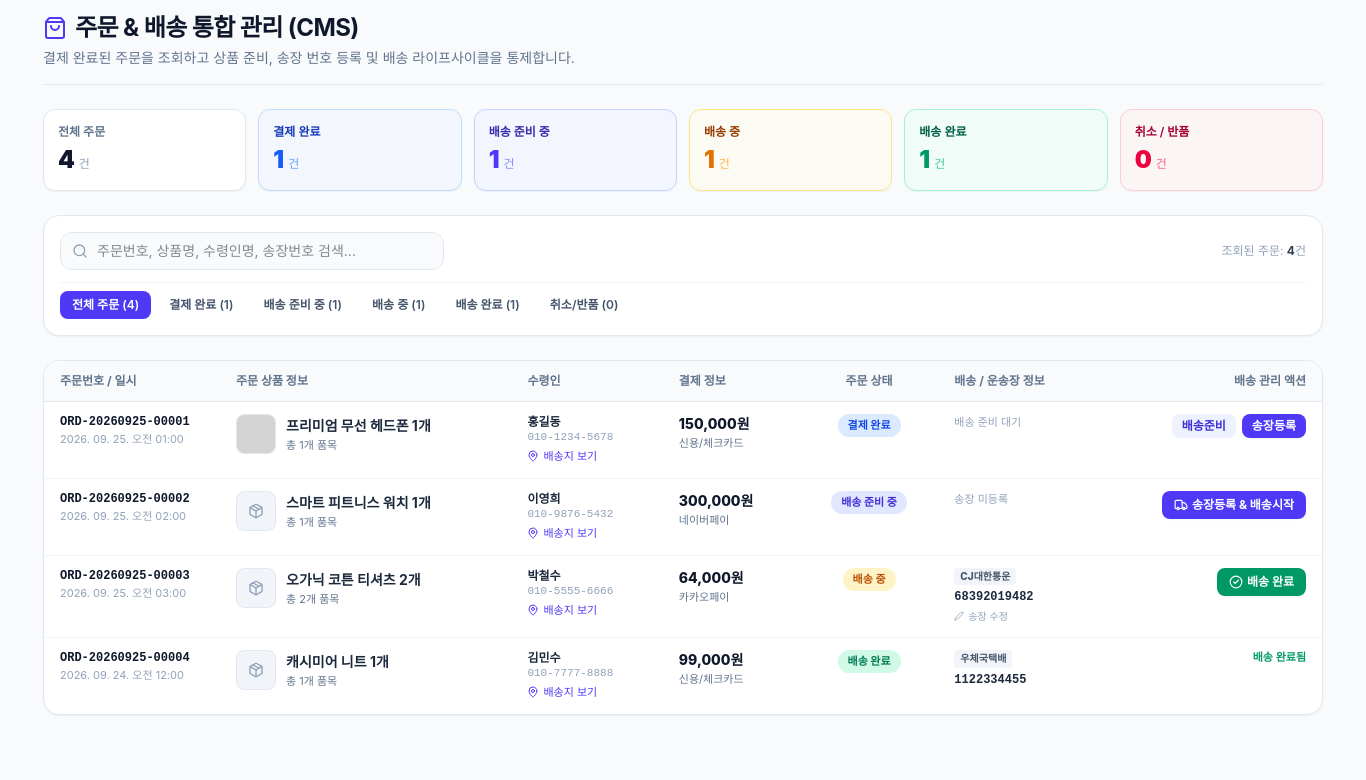
it: AdminOrderListViewer Component › 검색어로 주문번호 또는 수령인 검색 시 일치하는 주문만 필터링된다
Type "이영희" into the field with placeholder "주문번호, 상품명, 수령인명, 송장번호 검색..." at (252, 251), box [60,232,444,270]
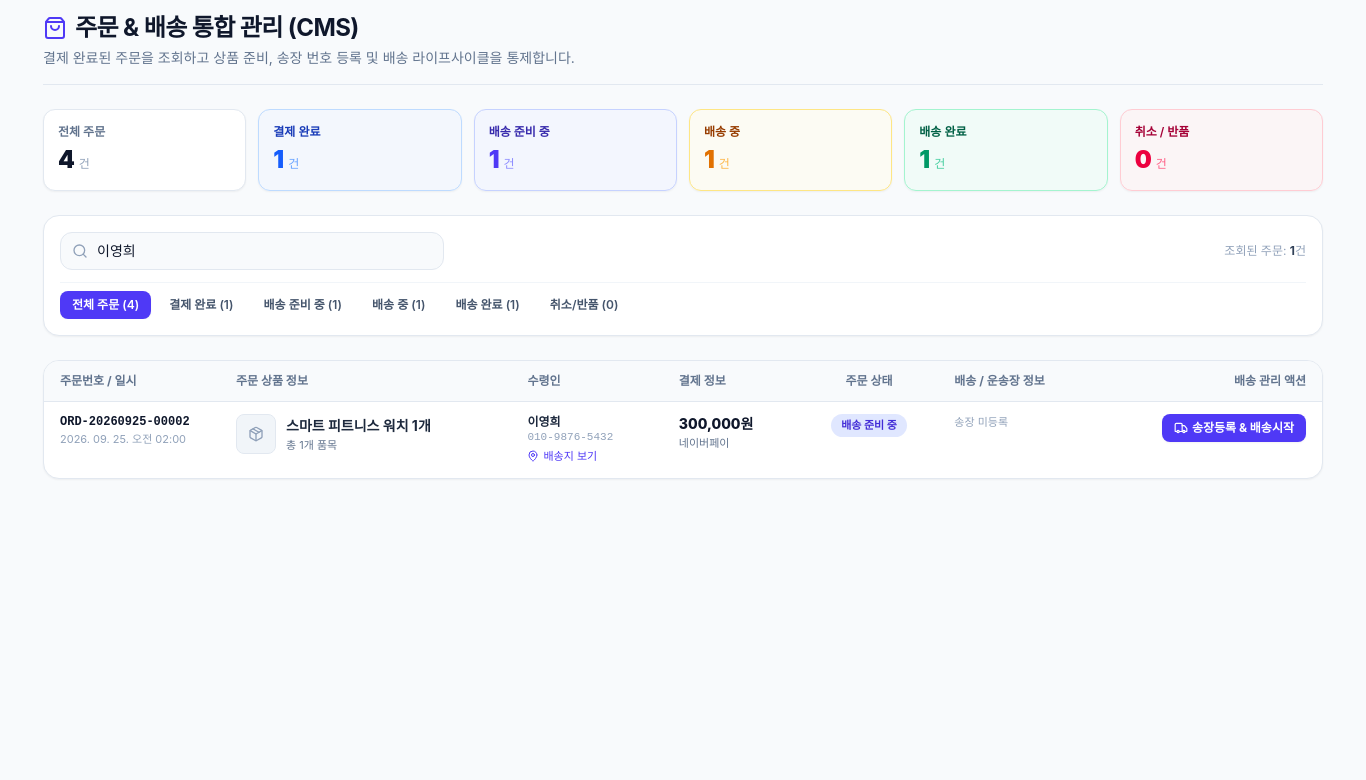
Expected: the text "ORD-20260925-00002" is shown, [60,414,204,430]
Expected: the text "ORD-20260925-00001" is gone
Expected: the text "ORD-20260925-00003" is gone
